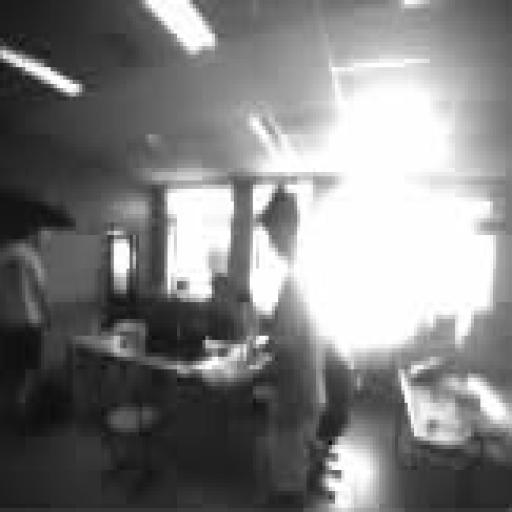human: (260, 189, 325, 507), (0, 231, 50, 419), (307, 322, 356, 433)
